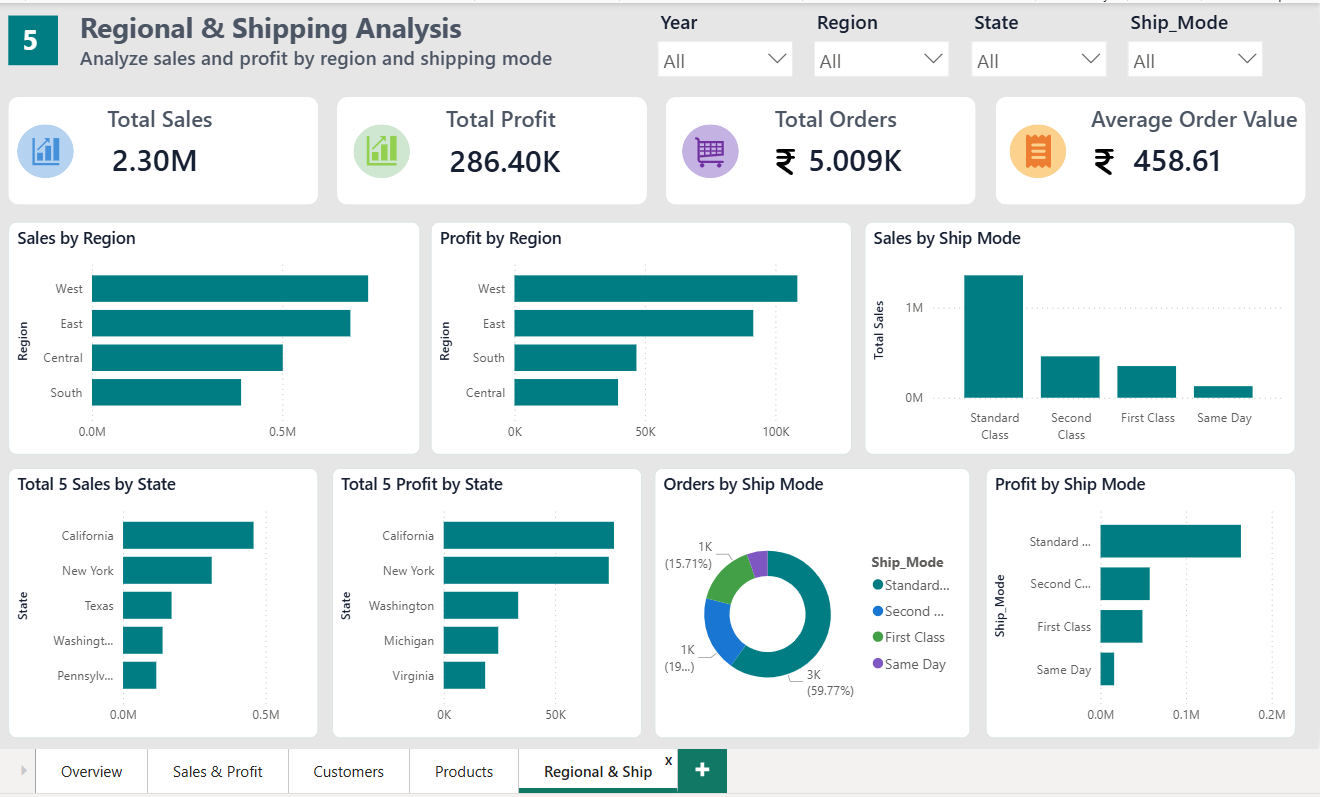

Layout of this report page (visuals, bound fields, positions):
{"tool":"powerbi","page":{"name":"Regional & Ship","canvas":[1280,720],"ordinal":4},"visuals":[{"type":"textbox","box":[79.6,0,628.5,91.9],"z":0},{"type":"shape","box":[15.1,12.3,48,48],"z":1000},{"type":"textbox","box":[24.7,12.3,38.4,48],"z":2000},{"type":"slicer","fields":{"Values":["Calendar.Year"]},"box":[632.6,0,150.9,76.8],"z":3000},{"type":"slicer","fields":{"Values":["Fact_Sales.Region"]},"box":[783.5,0,150.9,76.8],"z":4000},{"type":"slicer","fields":{"Values":["Fact_Sales.State"]},"box":[934.5,0,150.9,76.8],"z":5000},{"type":"slicer","fields":{"Values":["Fact_Sales.Ship_Mode"]},"box":[1085.4,0,150.9,76.8],"z":6000},{"type":"shape","box":[15.1,90.6,299.1,104.3],"z":7000},{"type":"shape","box":[333.4,90.6,299.1,104.3],"z":8000},{"type":"shape","box":[968.8,90.6,299.1,104.3],"z":9000},{"type":"shape","box":[650.4,90.6,299.1,104.3],"z":10000},{"type":"shape","box":[24.7,116.6,54.9,52.1],"z":11000},{"type":"shape","box":[348.5,116.6,54.9,52.1],"z":12000},{"type":"shape","box":[665.5,116.6,54.9,52.1],"z":13000},{"type":"shape","box":[982.5,116.6,54.9,52.1],"z":14000},{"type":"textbox","box":[105.7,91.9,160.5,50.8],"z":15000},{"type":"textbox","box":[433.6,91.9,199,50.8],"z":16000},{"type":"textbox","box":[750.6,91.9,183.9,50.8],"z":17000},{"type":"textbox","box":[1055.2,91.9,212.7,120.8],"z":18000},{"type":"cardVisual","fields":{"Data":["Fact_Sales.Total Sales"]},"box":[86.4,102.9,200.3,91.9],"z":19000},{"type":"cardVisual","fields":{"Data":["Fact_Sales.Total Profit"]},"box":[413,104.3,200.3,91.9],"z":20000},{"type":"cardVisual","fields":{"Data":["Fact_Sales.Average Order Value"]},"box":[1073.1,102.9,200.3,91.9],"z":21000},{"type":"cardVisual","fields":{"Data":["Fact_Sales.Total Orders"]},"box":[758.8,102.9,200.3,91.9],"z":22000},{"type":"image","box":[747.9,131.7,35.7,43.9],"z":23000},{"type":"image","box":[1055.2,131.7,35.7,43.9],"z":24000},{"type":"barChart","title":"Sales by Region","fields":{"Category":["Fact_Sales.Region"],"Y":["Fact_Sales.Total Sales"]},"box":[15.1,211.3,397.9,225],"z":25000},{"type":"barChart","title":"Profit by Region","fields":{"Category":["Fact_Sales.Region"],"Y":["Fact_Sales.Total Profit"]},"box":[424,211.3,406.2,225],"z":26000},{"type":"columnChart","title":"Sales by Ship Mode","fields":{"Category":["Fact_Sales.Ship_Mode"],"Y":["Fact_Sales.Total Sales"]},"box":[842.5,211.3,415.8,225],"z":27000},{"type":"barChart","title":"Total 5 Sales by State","fields":{"Category":["Fact_Sales.State"],"Y":["Fact_Sales.Total Sales"]},"box":[15.1,448.7,299.1,260.7],"z":28000},{"type":"barChart","title":"Total 5 Profit by State","fields":{"Category":["Fact_Sales.State"],"Y":["Fact_Sales.Total Profit"]},"box":[328,448.7,299.1,260.7],"z":29000},{"type":"donutChart","title":"Orders by Ship Mode","fields":{"Category":["Fact_Sales.Ship_Mode"],"Y":["Fact_Sales.Total Orders"]},"box":[639.5,448.7,304.6,260.7],"z":30000},{"type":"barChart","title":"Profit by Ship Mode","fields":{"Category":["Fact_Sales.Ship_Mode"],"Y":["Fact_Sales.Total Profit"]},"box":[959.2,448.7,299.1,260.7],"z":31000},{"type":"image","box":[34.3,118,35.7,50.8],"z":32000},{"type":"image","box":[355.4,111.1,39.8,63.1],"z":33000},{"type":"image","box":[675.1,119.4,35.7,49.4],"z":34000},{"type":"image","box":[986.6,123.5,46.7,39.8],"z":35000}]}

Visuals, with their boxes on the page's 1280x720 design canvas (x1, y1, x2, y2). These are canvas units, not pixel positions in the 1320x797 screenshot, which may show the page scaled, cropped or inside an application window:
textbox: {"x1": 80, "y1": 0, "x2": 708, "y2": 92}
shape: {"x1": 15, "y1": 12, "x2": 63, "y2": 60}
textbox: {"x1": 25, "y1": 12, "x2": 63, "y2": 60}
slicer - Calendar.Year: {"x1": 633, "y1": 0, "x2": 784, "y2": 77}
slicer - Fact_Sales.Region: {"x1": 784, "y1": 0, "x2": 934, "y2": 77}
slicer - Fact_Sales.State: {"x1": 934, "y1": 0, "x2": 1085, "y2": 77}
slicer - Fact_Sales.Ship_Mode: {"x1": 1085, "y1": 0, "x2": 1236, "y2": 77}
shape: {"x1": 15, "y1": 91, "x2": 314, "y2": 195}
shape: {"x1": 333, "y1": 91, "x2": 632, "y2": 195}
shape: {"x1": 969, "y1": 91, "x2": 1268, "y2": 195}
shape: {"x1": 650, "y1": 91, "x2": 950, "y2": 195}
shape: {"x1": 25, "y1": 117, "x2": 80, "y2": 169}
shape: {"x1": 348, "y1": 117, "x2": 403, "y2": 169}
shape: {"x1": 666, "y1": 117, "x2": 720, "y2": 169}
shape: {"x1": 982, "y1": 117, "x2": 1037, "y2": 169}
textbox: {"x1": 106, "y1": 92, "x2": 266, "y2": 143}
textbox: {"x1": 434, "y1": 92, "x2": 633, "y2": 143}
textbox: {"x1": 751, "y1": 92, "x2": 934, "y2": 143}
textbox: {"x1": 1055, "y1": 92, "x2": 1268, "y2": 213}
cardVisual - Fact_Sales.Total Sales: {"x1": 86, "y1": 103, "x2": 287, "y2": 195}
cardVisual - Fact_Sales.Total Profit: {"x1": 413, "y1": 104, "x2": 613, "y2": 196}
cardVisual - Fact_Sales.Average Order Value: {"x1": 1073, "y1": 103, "x2": 1273, "y2": 195}
cardVisual - Fact_Sales.Total Orders: {"x1": 759, "y1": 103, "x2": 959, "y2": 195}
image: {"x1": 748, "y1": 132, "x2": 784, "y2": 176}
image: {"x1": 1055, "y1": 132, "x2": 1091, "y2": 176}
"Sales by Region" barChart: {"x1": 15, "y1": 211, "x2": 413, "y2": 436}
"Profit by Region" barChart: {"x1": 424, "y1": 211, "x2": 830, "y2": 436}
"Sales by Ship Mode" columnChart: {"x1": 842, "y1": 211, "x2": 1258, "y2": 436}
"Total 5 Sales by State" barChart: {"x1": 15, "y1": 449, "x2": 314, "y2": 709}
"Total 5 Profit by State" barChart: {"x1": 328, "y1": 449, "x2": 627, "y2": 709}
"Orders by Ship Mode" donutChart: {"x1": 640, "y1": 449, "x2": 944, "y2": 709}
"Profit by Ship Mode" barChart: {"x1": 959, "y1": 449, "x2": 1258, "y2": 709}
image: {"x1": 34, "y1": 118, "x2": 70, "y2": 169}
image: {"x1": 355, "y1": 111, "x2": 395, "y2": 174}
image: {"x1": 675, "y1": 119, "x2": 711, "y2": 169}
image: {"x1": 987, "y1": 124, "x2": 1033, "y2": 163}
